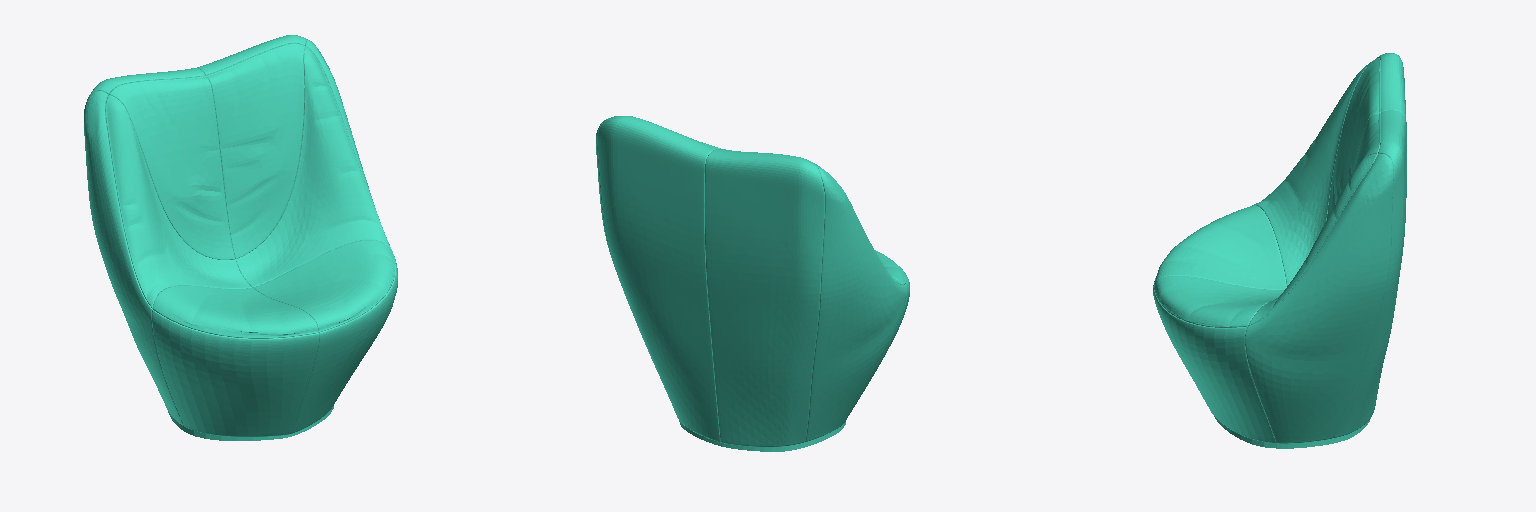
The picture shows the model from 3 angles: view 1: azimuth 30°, elevation 25°; view 2: azimuth 150°, elevation 25°; view 3: azimuth 270°, elevation 25°; orthographic projection.
Parts seen in each view (by area): view 1: 3dstylish01, 3dstylish00; view 2: 3dstylish01, 3dstylish00; view 3: 3dstylish01, 3dstylish00.
Boxes of the visible parts, <box> form: 3dstylish01: <box>84,35,397,436</box>; 3dstylish00: <box>168,406,333,440</box>; 3dstylish01: <box>596,116,909,446</box>; 3dstylish00: <box>679,421,845,451</box>; 3dstylish01: <box>1153,53,1406,443</box>; 3dstylish00: <box>1214,416,1370,448</box>.
Size of the model in its own units: 33.81 by 40.11 by 29.32.